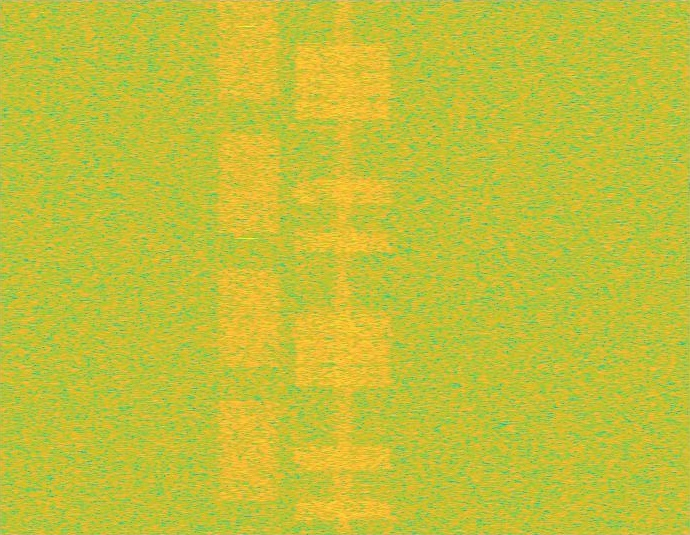5G: (214, 0, 283, 534)
DSSS: (331, 0, 355, 534)
LTE: (291, 0, 395, 534)
Radar: (241, 0, 255, 534)
